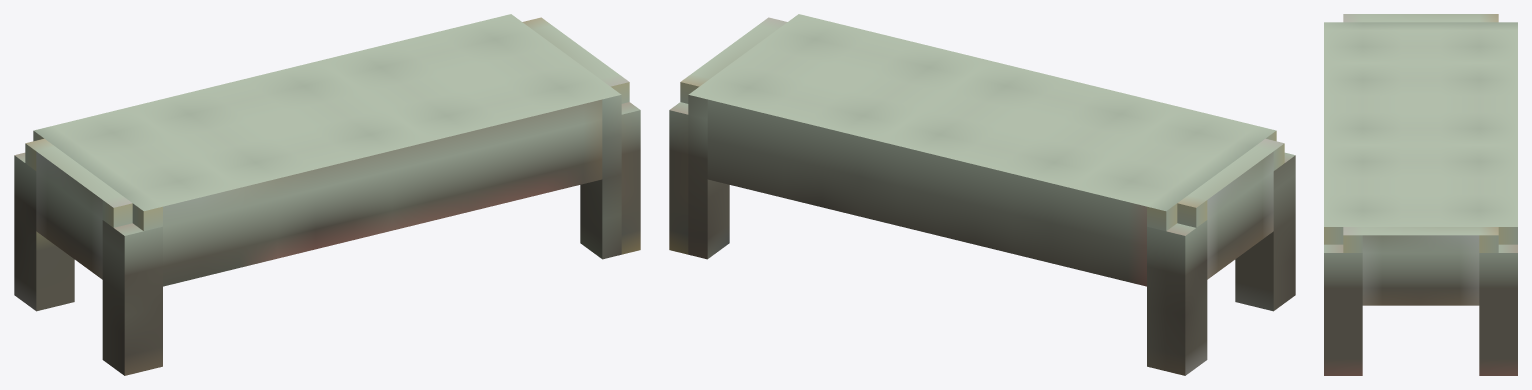
The model's file is Footrest_00.fbx.
3 views of the same model, side by side, from view 1: azimuth 30°, elevation 25°; view 2: azimuth 150°, elevation 25°; view 3: azimuth 270°, elevation 25° (orthographic). The views are drawn at different scales.
Parts seen in each view (by area): view 1: Footrest_00; view 2: Footrest_00; view 3: Footrest_00.
Part boxes in pixels (<box>): Footrest_00: <box>14,14,640,375</box>; Footrest_00: <box>669,14,1295,375</box>; Footrest_00: <box>1324,14,1517,375</box>.
Bounding box in the file's own units: 135 × 50 × 40.
1 material, 1 textured.
